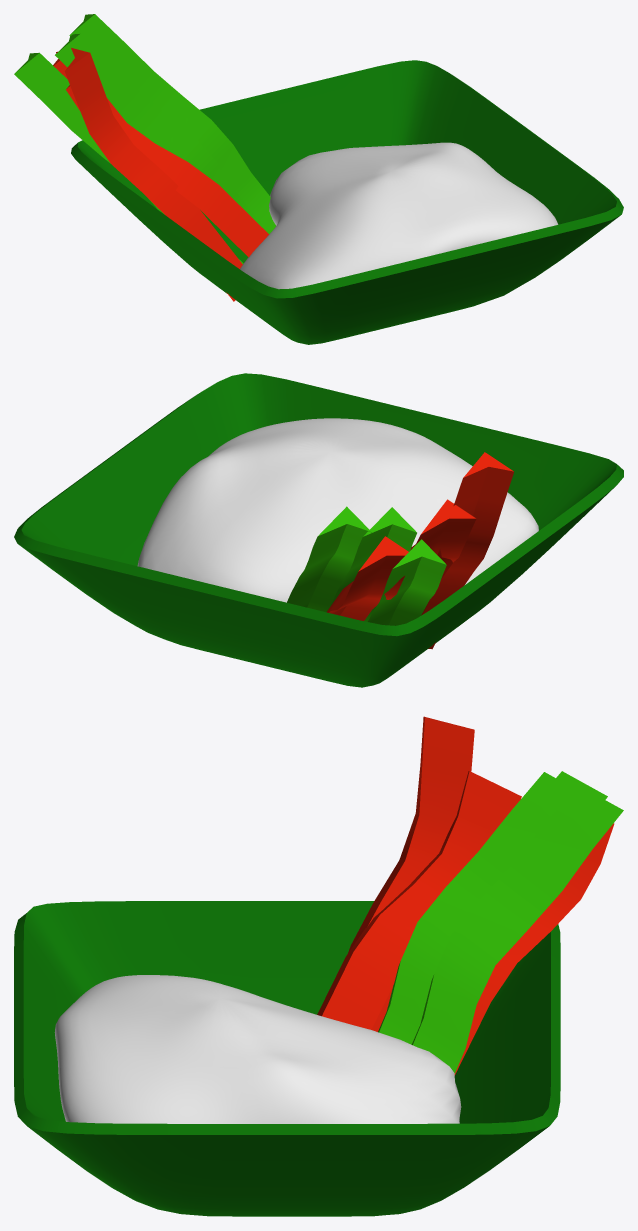
Rendered from Palitos de apio.fbx.
3 renders of one model, top to bottom at view 1: azimuth 30°, elevation 25°; view 2: azimuth 150°, elevation 25°; view 3: azimuth 270°, elevation 25°, orthographic. The views are drawn at different scales.
Parts seen in each view (by area): view 1: Cube, Sphere, Plane, Plane.003, Plane.005, Plane.004, Plane.001; view 2: Cube, Sphere, Plane, Plane.003, Plane.001, Plane.002, Plane.004, Plane.005; view 3: Cube, Sphere, Plane.003, Plane.004, Plane.005, Plane, Plane.002.
Part boxes in pixels (left/top/right/bottom): Cube: left=71, top=60, right=623, bottom=344; Sphere: left=240, top=142, right=558, bottom=289; Plane: left=64, top=48, right=242, bottom=301; Plane.003: left=69, top=14, right=275, bottom=231; Plane.005: left=55, top=33, right=270, bottom=234; Plane.004: left=66, top=85, right=268, bottom=257; Plane.001: left=14, top=52, right=243, bottom=263; Cube: left=14, top=373, right=623, bottom=687; Sphere: left=137, top=418, right=538, bottom=602; Plane: left=421, top=452, right=513, bottom=649; Plane.003: left=287, top=506, right=371, bottom=611; Plane.001: left=368, top=539, right=446, bottom=625; Plane.002: left=326, top=536, right=408, bottom=620; Plane.004: left=410, top=499, right=476, bottom=562; Plane.005: left=331, top=507, right=416, bottom=621; Cube: left=14, top=901, right=560, bottom=1216; Sphere: left=54, top=975, right=461, bottom=1123; Plane.003: left=411, top=785, right=623, bottom=1073; Plane.004: left=317, top=771, right=521, bottom=1029; Plane.005: left=378, top=772, right=574, bottom=1044; Plane: left=348, top=716, right=474, bottom=1031; Plane.002: left=454, top=823, right=614, bottom=1075.
Size of the model in its own units: 636 by 371 by 634.
